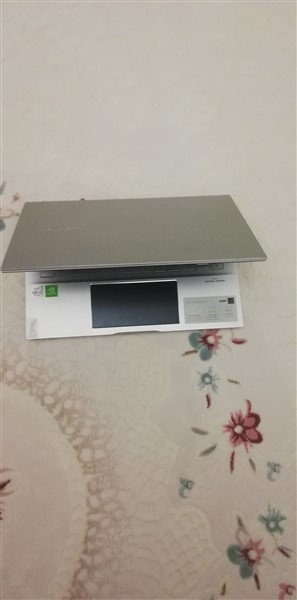laptop: (4, 194, 267, 339)
